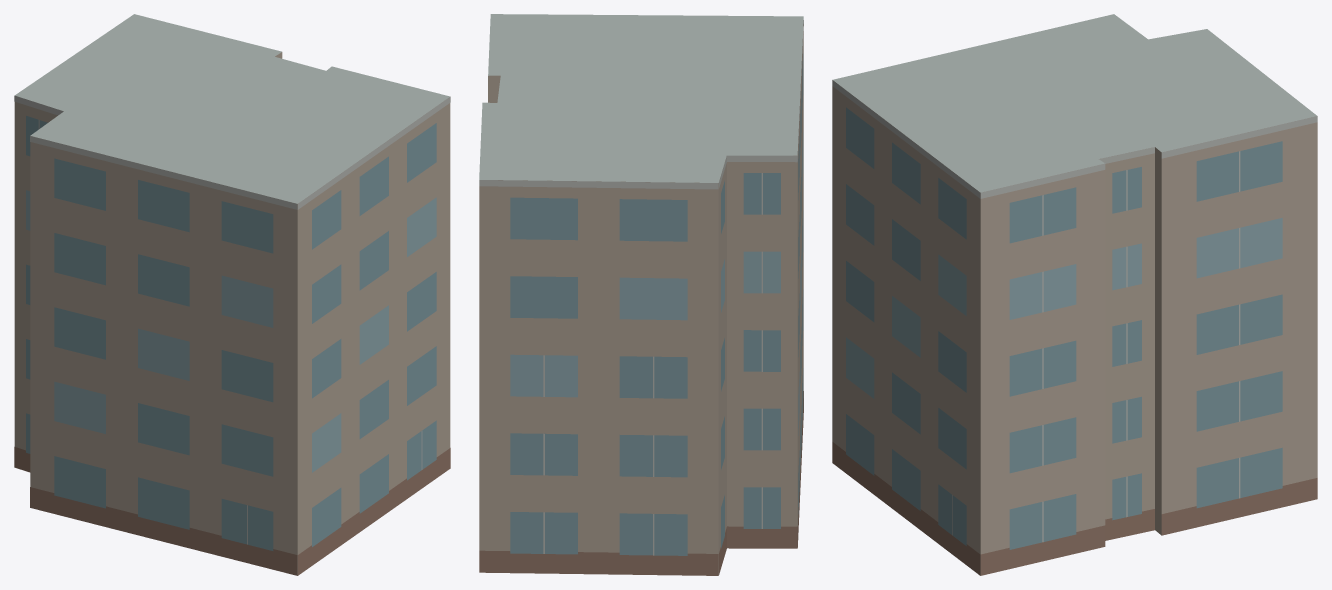
File: survey-upis-32722814.glb
3 views of the same model, side by side, from view 1: azimuth 30°, elevation 25°; view 2: azimuth 150°, elevation 25°; view 3: azimuth 270°, elevation 25° (orthographic). The views are drawn at different scales.
Visible parts, largest first — view 1: survey-upis-32722814.tmp; view 2: survey-upis-32722814.tmp; view 3: survey-upis-32722814.tmp.
Part boxes in pixels (x1,y1,x2,y2): survey-upis-32722814.tmp: (14, 14, 450, 575); survey-upis-32722814.tmp: (479, 14, 803, 575); survey-upis-32722814.tmp: (832, 14, 1317, 575).
Size of the model in its own units: 14.91 by 14.9 by 17.1.
